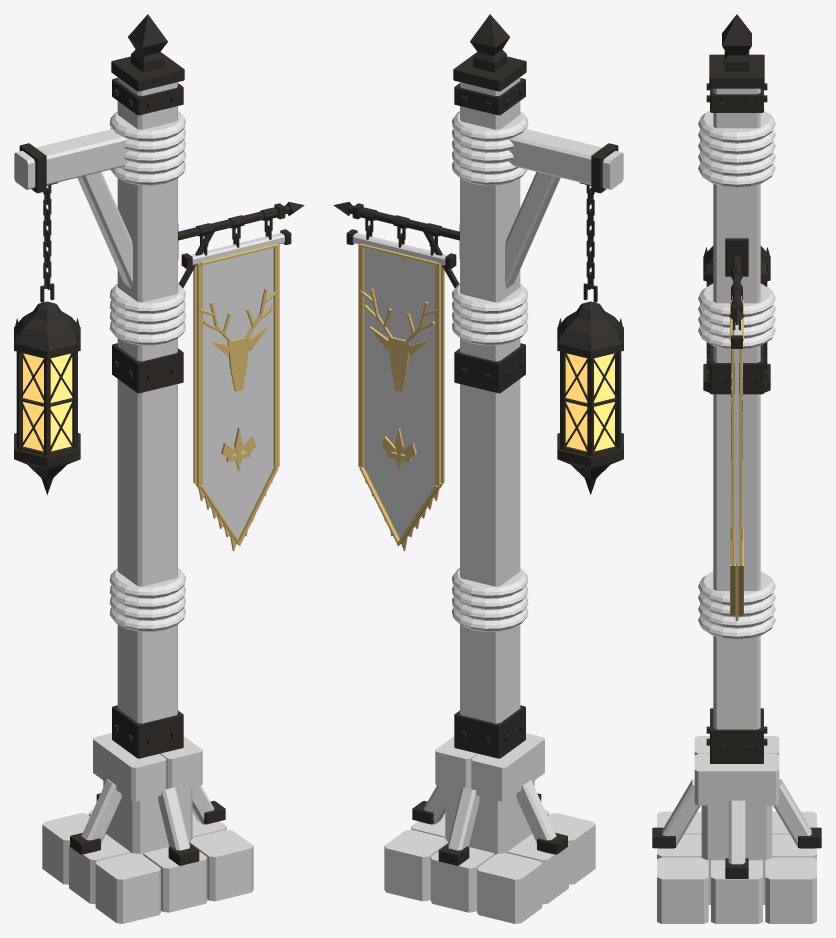
File: SilverbrookStreetLamp3.glb
3 views of the same model, side by side, from view 1: azimuth 30°, elevation 25°; view 2: azimuth 150°, elevation 25°; view 3: azimuth 270°, elevation 25° (orthographic).
Visible parts, largest first — view 1: SM_SBStreetLamp3_Details, SM_SBStreetLamp3_Timber, SM_SBStreetLamp3_Masonry; view 2: SM_SBStreetLamp3_Details, SM_SBStreetLamp3_Timber, SM_SBStreetLamp3_Masonry; view 3: SM_SBStreetLamp3_Details, SM_SBStreetLamp3_Timber, SM_SBStreetLamp3_Masonry.
Part boxes in pixels (x1,y1,x2,y2): SM_SBStreetLamp3_Details: (14, 14, 304, 865); SM_SBStreetLamp3_Timber: (14, 77, 284, 853); SM_SBStreetLamp3_Masonry: (42, 733, 253, 923); SM_SBStreetLamp3_Details: (333, 14, 623, 865); SM_SBStreetLamp3_Timber: (353, 77, 623, 853); SM_SBStreetLamp3_Masonry: (384, 733, 595, 923); SM_SBStreetLamp3_Details: (652, 14, 821, 878); SM_SBStreetLamp3_Timber: (659, 88, 814, 864); SM_SBStreetLamp3_Masonry: (657, 736, 816, 923).
Size of the model in its own units: 1.44 by 4.11 by 0.72.
